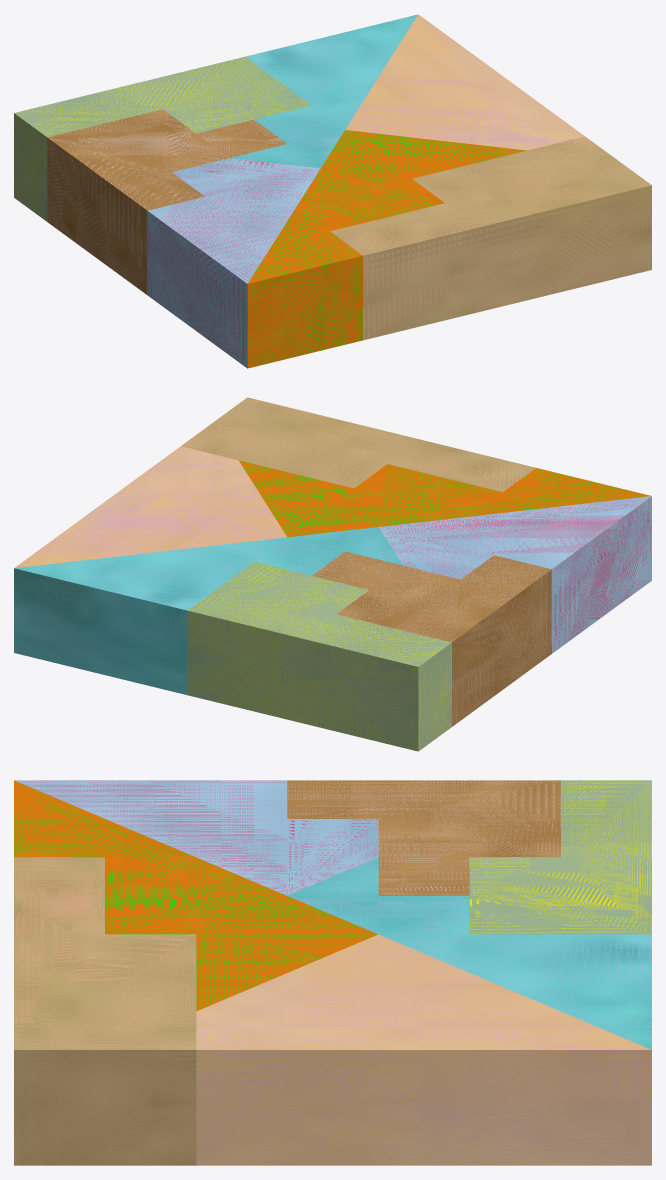
The model's file is puzzle.glb.
3 views of the same model, one above another, from view 1: azimuth 30°, elevation 25°; view 2: azimuth 150°, elevation 25°; view 3: azimuth 270°, elevation 25° (orthographic). The views are drawn at different scales.
Visible parts, largest first — view 1: coklatmuda, orange, coklattua, bluemuda, yellow, green, lumut; view 2: green, lumut, bluemuda, coklattua, yellow, orange, coklatmuda; view 3: yellow, coklatmuda, orange, lumut, coklattua, bluemuda, green.
Part boxes in pixels (bbox=[...]): coklatmuda: bbox=[330, 136, 651, 340]; orange: bbox=[247, 130, 526, 368]; coklattua: bbox=[47, 109, 286, 294]; bluemuda: bbox=[147, 158, 320, 368]; yellow: bbox=[345, 14, 584, 150]; green: bbox=[14, 56, 311, 221]; lumut: bbox=[230, 14, 418, 168]; green: bbox=[187, 562, 451, 751]; lumut: bbox=[14, 527, 402, 694]; bluemuda: bbox=[379, 496, 651, 653]; coklattua: bbox=[312, 551, 551, 726]; yellow: bbox=[14, 446, 286, 568]; orange: bbox=[239, 460, 650, 537]; coklatmuda: bbox=[181, 397, 535, 491]; yellow: bbox=[196, 934, 651, 1165]; coklatmuda: bbox=[14, 857, 196, 1165]; orange: bbox=[14, 780, 377, 1011]; lumut: bbox=[288, 857, 651, 1049]; coklattua: bbox=[287, 780, 560, 895]; bluemuda: bbox=[14, 780, 378, 895]; green: bbox=[469, 780, 651, 934].
Bounding box in the file's own units: 0.15 × 0.03 × 0.15.
14 materials, 7 textured.
